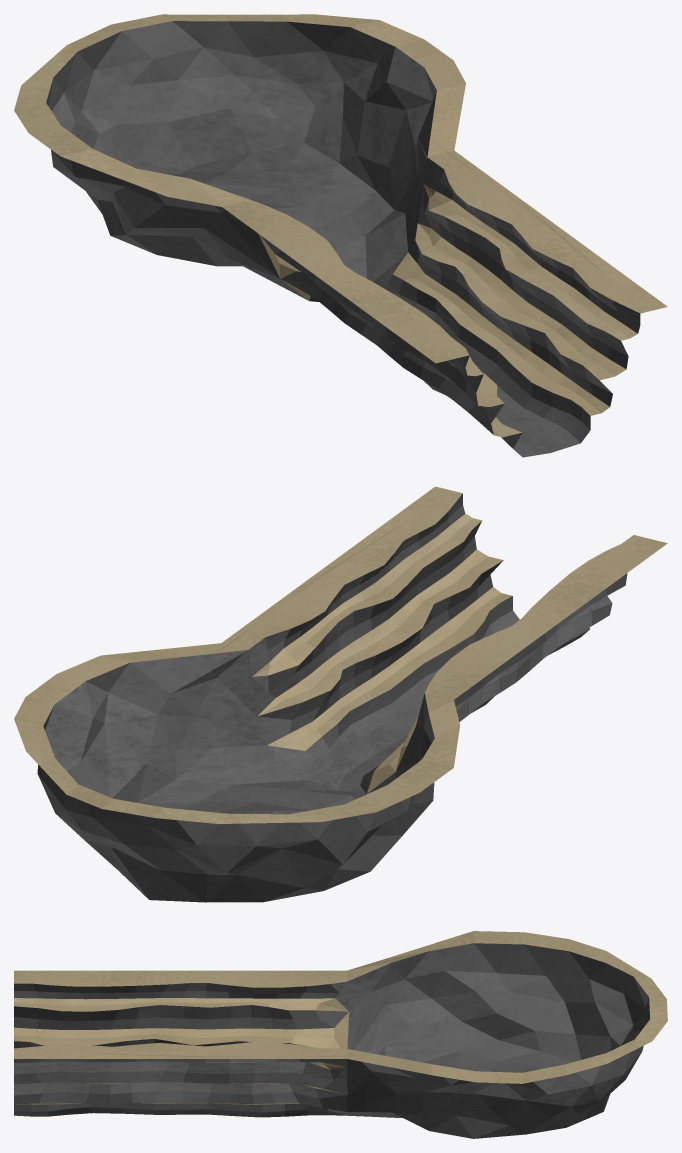
The model's file is arena 1.fbx.
The picture shows the model from 3 angles, top to bottom: view 1: azimuth 30°, elevation 25°; view 2: azimuth 150°, elevation 25°; view 3: azimuth 270°, elevation 25°; orthographic projection. The views are drawn at different scales.
Parts seen in each view (by area): view 1: arena; view 2: arena; view 3: arena.
Boxes of the visible parts, left/top/right/bottom form: arena: left=14, top=14, right=667, bottom=457; arena: left=14, top=486, right=667, bottom=902; arena: left=14, top=931, right=667, bottom=1138.
Bounding box in the file's own units: 2943 × 925 × 5401.
